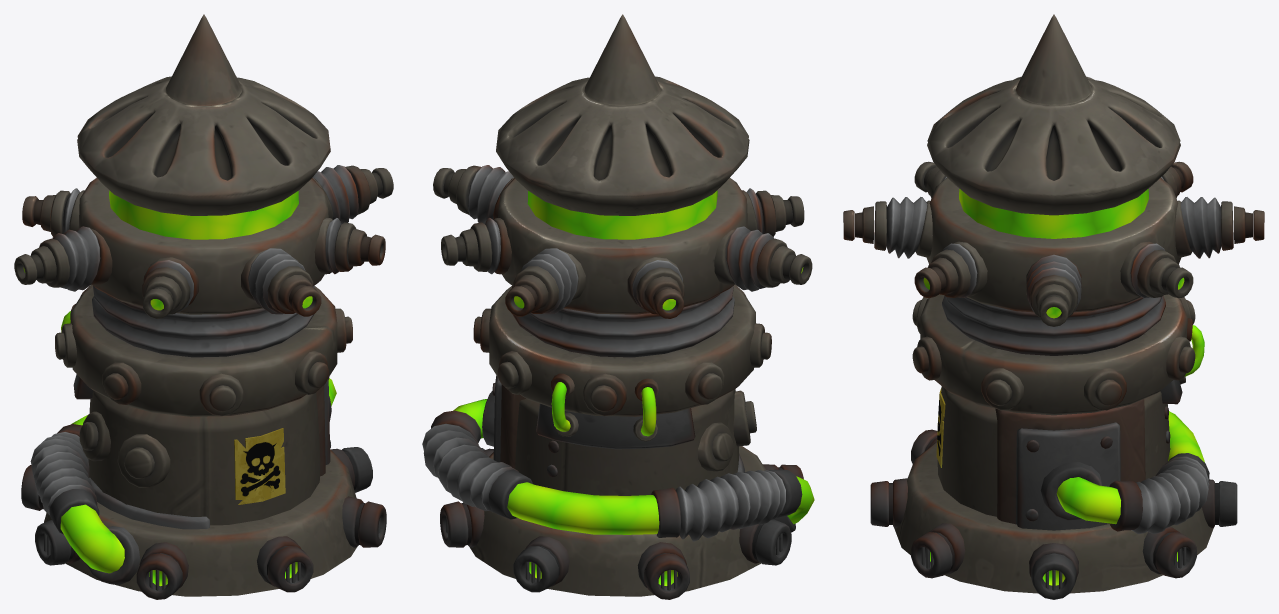
File: SM_TowerDefense_Venom_Lv5.fbx
The picture shows the model from 3 angles, left to right: view 1: azimuth 30°, elevation 25°; view 2: azimuth 150°, elevation 25°; view 3: azimuth 270°, elevation 25°; orthographic projection.
Visible parts, largest first — view 1: SM_TowerDefense_Venom_Lv5; view 2: SM_TowerDefense_Venom_Lv5; view 3: SM_TowerDefense_Venom_Lv5.
Boxes of the visible parts, x1=… form: SM_TowerDefense_Venom_Lv5: x1=14, y1=14, x2=393, y2=599; SM_TowerDefense_Venom_Lv5: x1=422, y1=14, x2=814, y2=599; SM_TowerDefense_Venom_Lv5: x1=843, y1=14, x2=1264, y2=599.
Bounding box in the file's own units: 1483 × 2002 × 1483.
